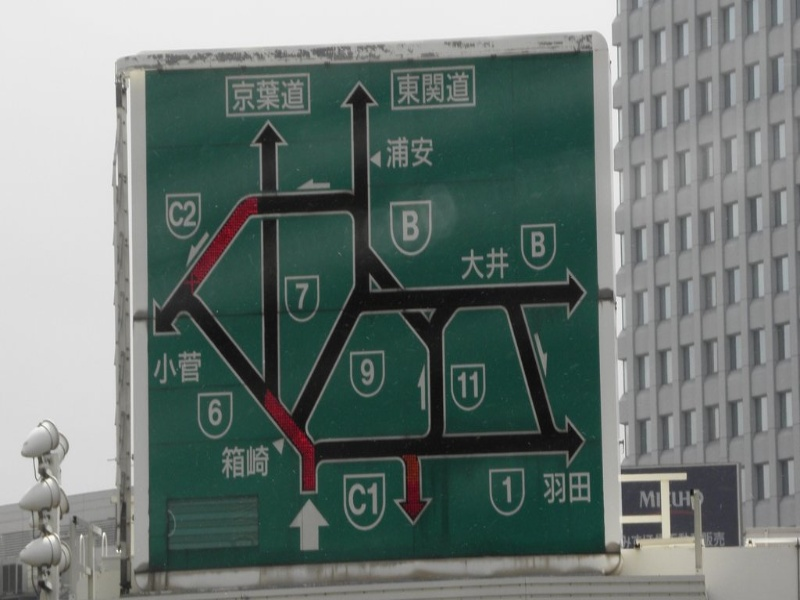left_direction: (149, 291, 183, 340)
right_direction: (535, 267, 592, 321), (557, 411, 587, 470)
straight_direction: (245, 118, 293, 183), (338, 79, 382, 148), (286, 494, 333, 555)
